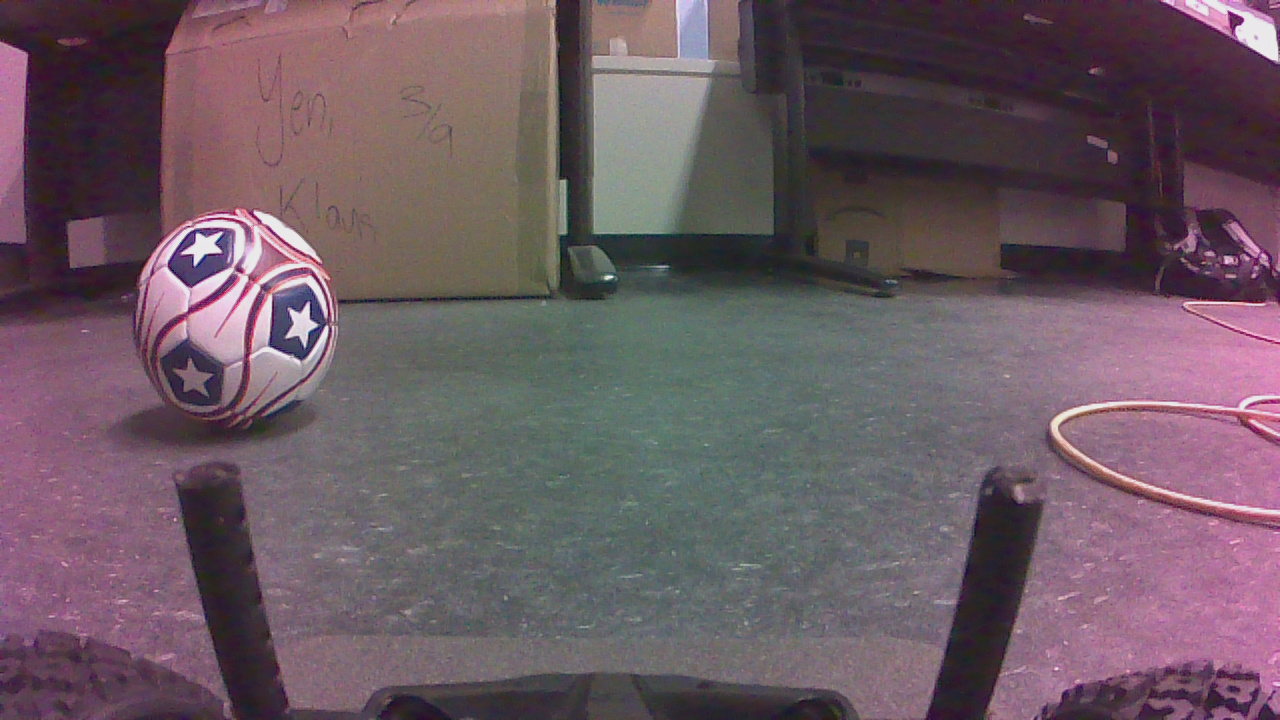ball: (138, 214, 344, 440)
